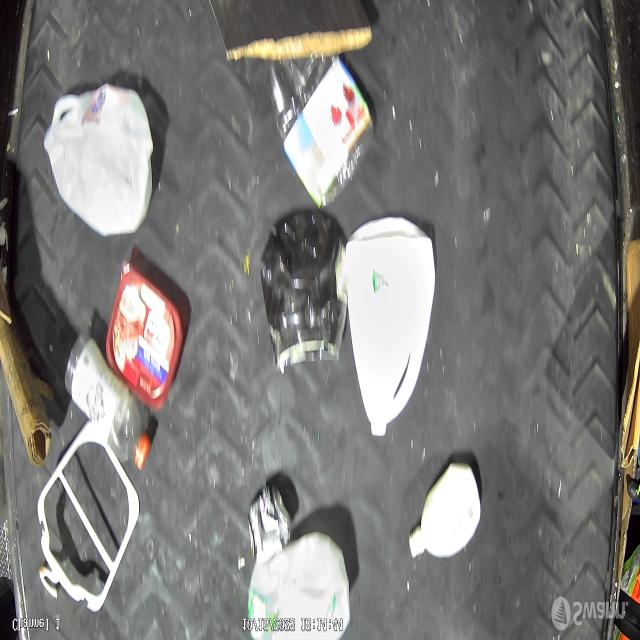can: (248, 485, 291, 565)
milk_jug: (346, 215, 435, 439), (44, 84, 153, 235), (248, 533, 351, 640)
non_white_jug: (260, 210, 348, 371)
plastic_bottle: (270, 59, 375, 208), (64, 336, 150, 471)
